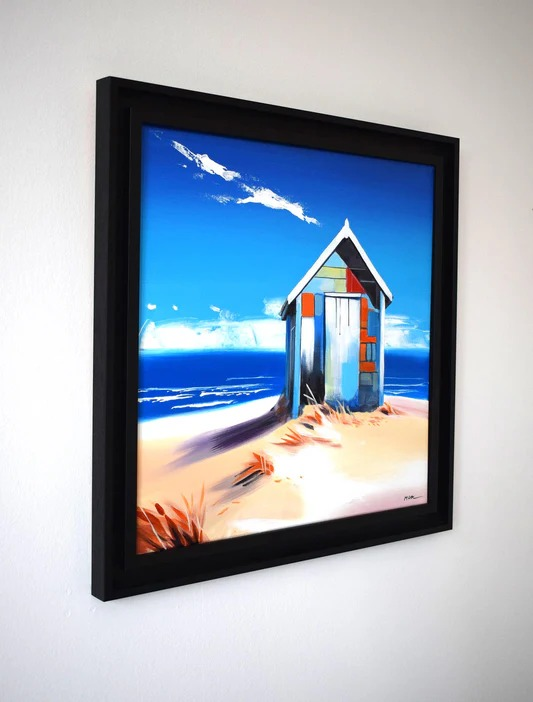painting: (92, 76, 459, 603)
